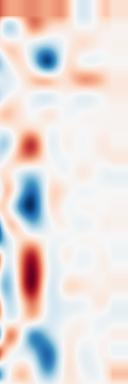filament: (9, 234, 54, 326)
